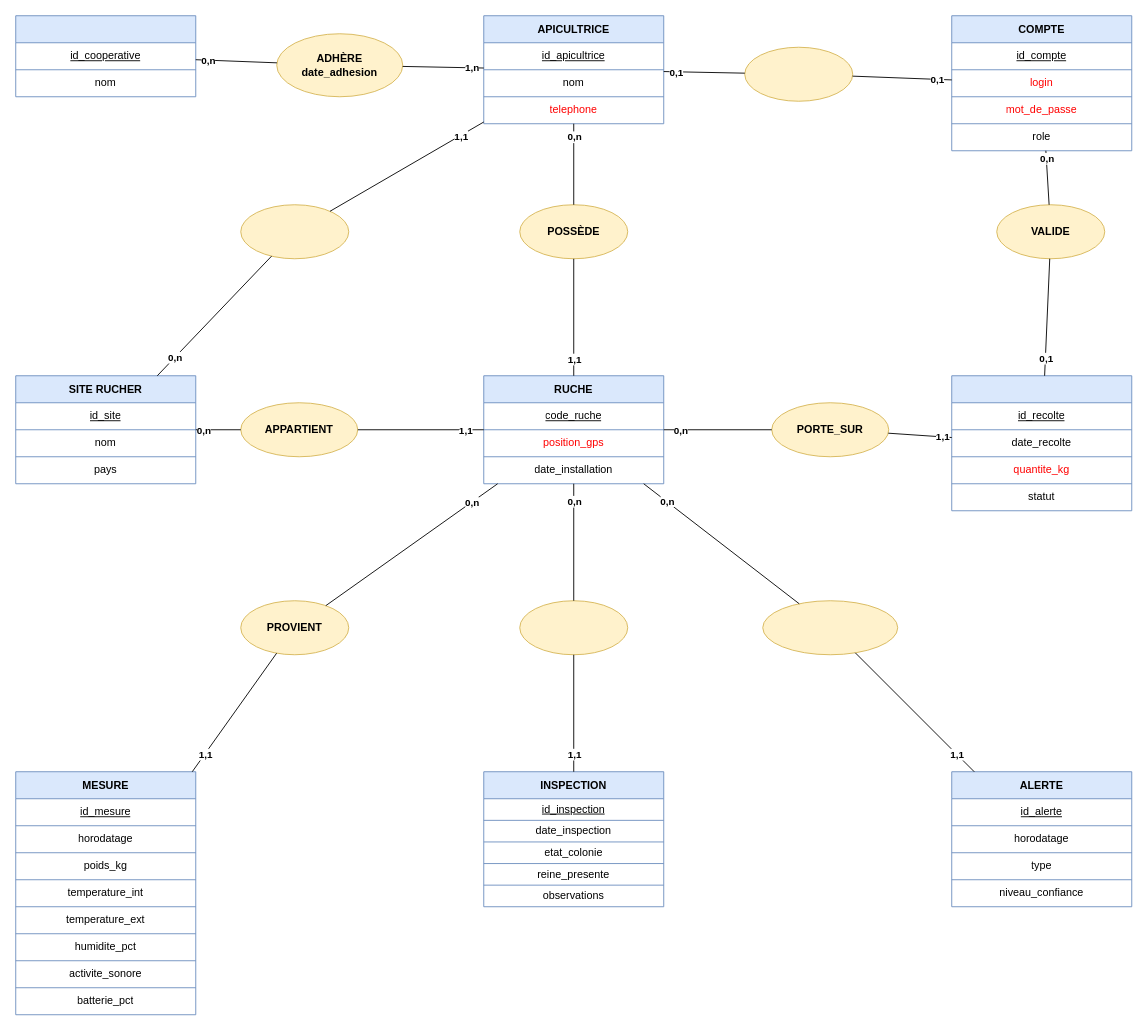
Some shapes in this 1148 by 1031 pixel diagram are drawn without their labels. The shapes that lost their labels are listed below. From the top down, each one's box as (x1, y1, x2, y2) in pixels, then its label:
(15, 15, 196, 97): COOPÉRATIVE
(744, 46, 853, 101): UTILISE
(240, 204, 349, 259): TRAVAILLE
(951, 375, 1132, 511): RÉCOLTE
(519, 600, 628, 655): CONCERNE
(762, 600, 898, 655): DECLENCHE_SUR
